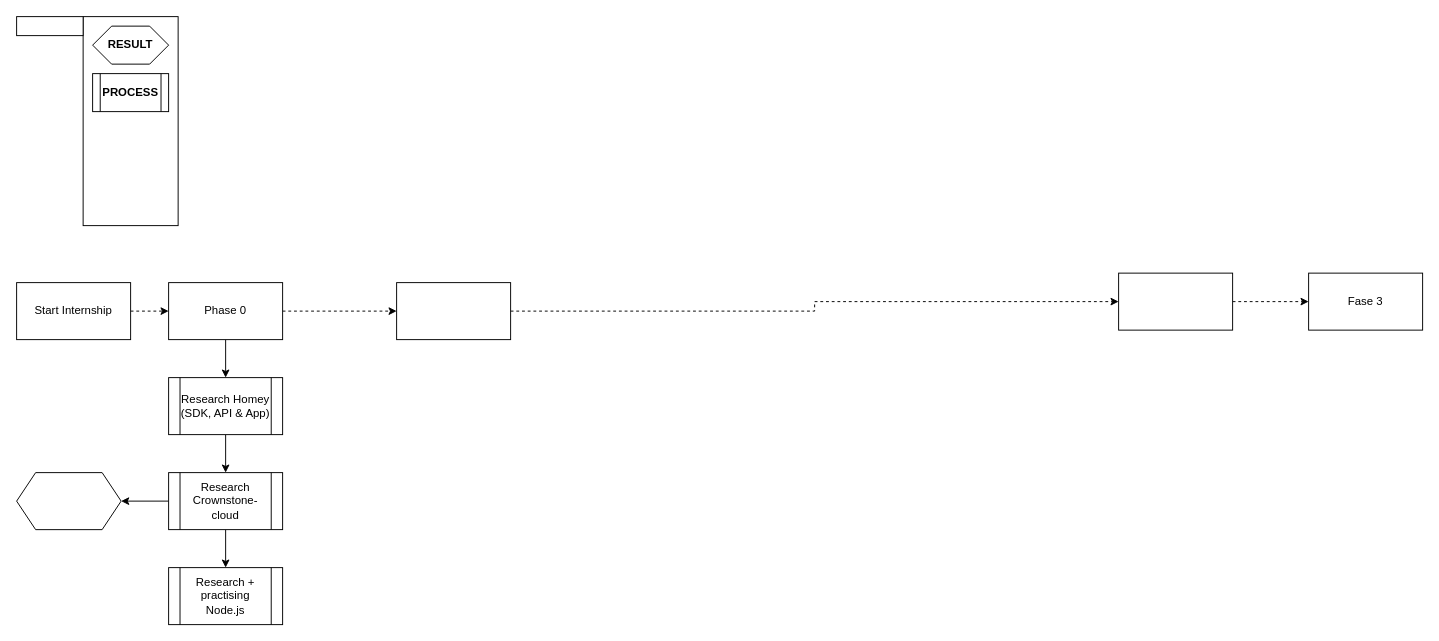
The diagram is 1439 pixels wide and 641 high, and some of its shapes have lost their labels. The shapes that lost their labels are listed below. From the top down, each one's centre as x and y in pixels, then its label:
At (x=49, y=26): "Inscription:".
At (x=453, y=311): "Fase 1".
At (x=1175, y=301): "Fase 2".
At (x=68, y=501): "Code which uses the cloud".
